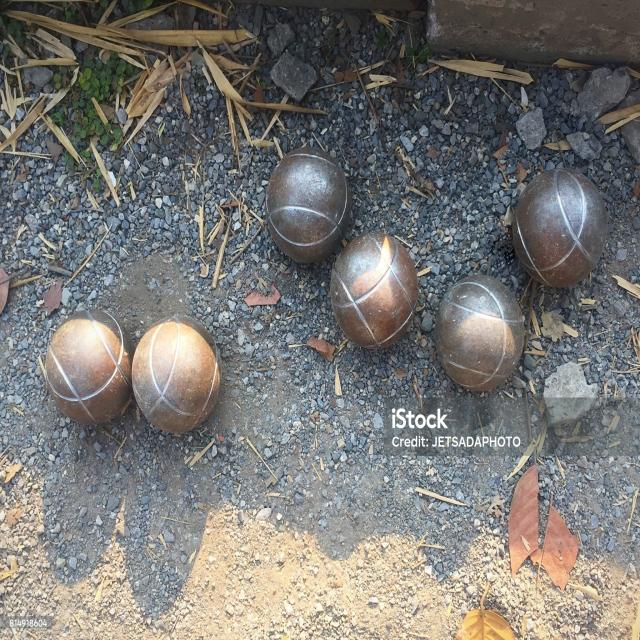petanque: (506, 164, 613, 298), (42, 296, 141, 432), (130, 310, 228, 443), (432, 269, 531, 400), (263, 142, 358, 277), (326, 232, 426, 360)
